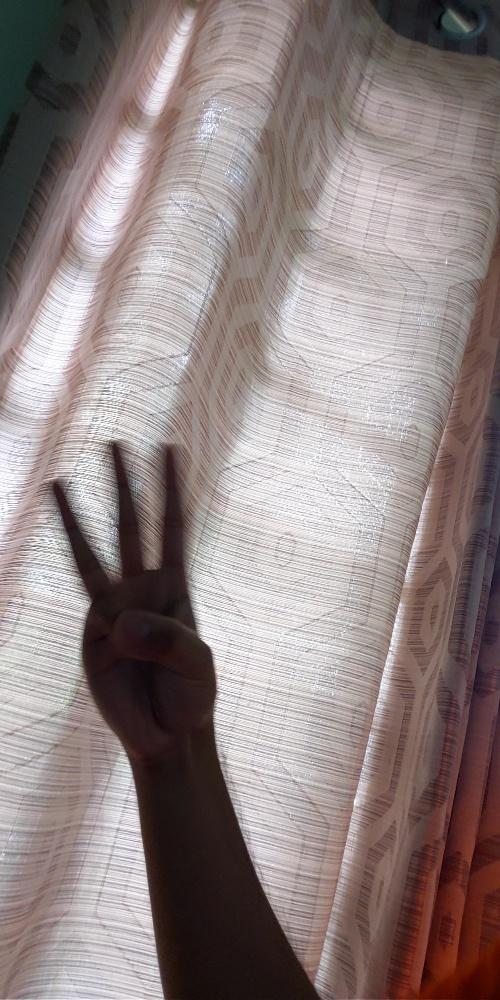w: (46, 435, 219, 751)
